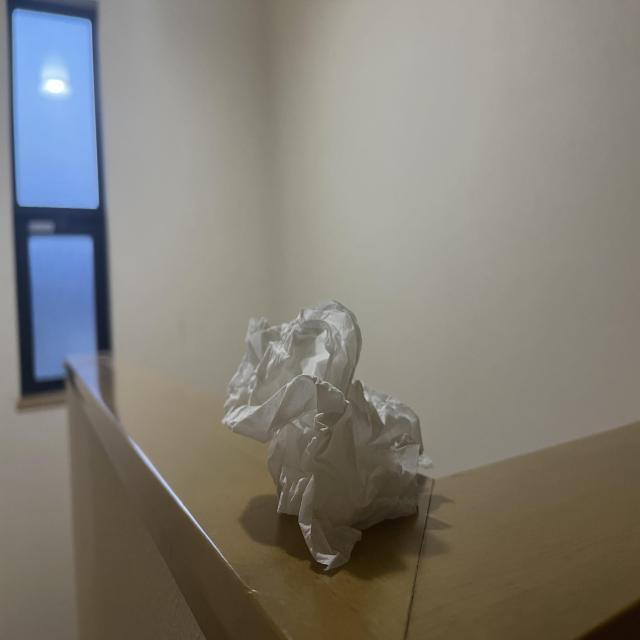Paper: (226, 310, 421, 560)
